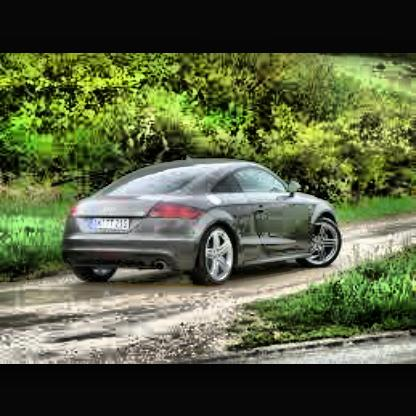Audi TT Hatchback 2011: (63, 156, 345, 282)
